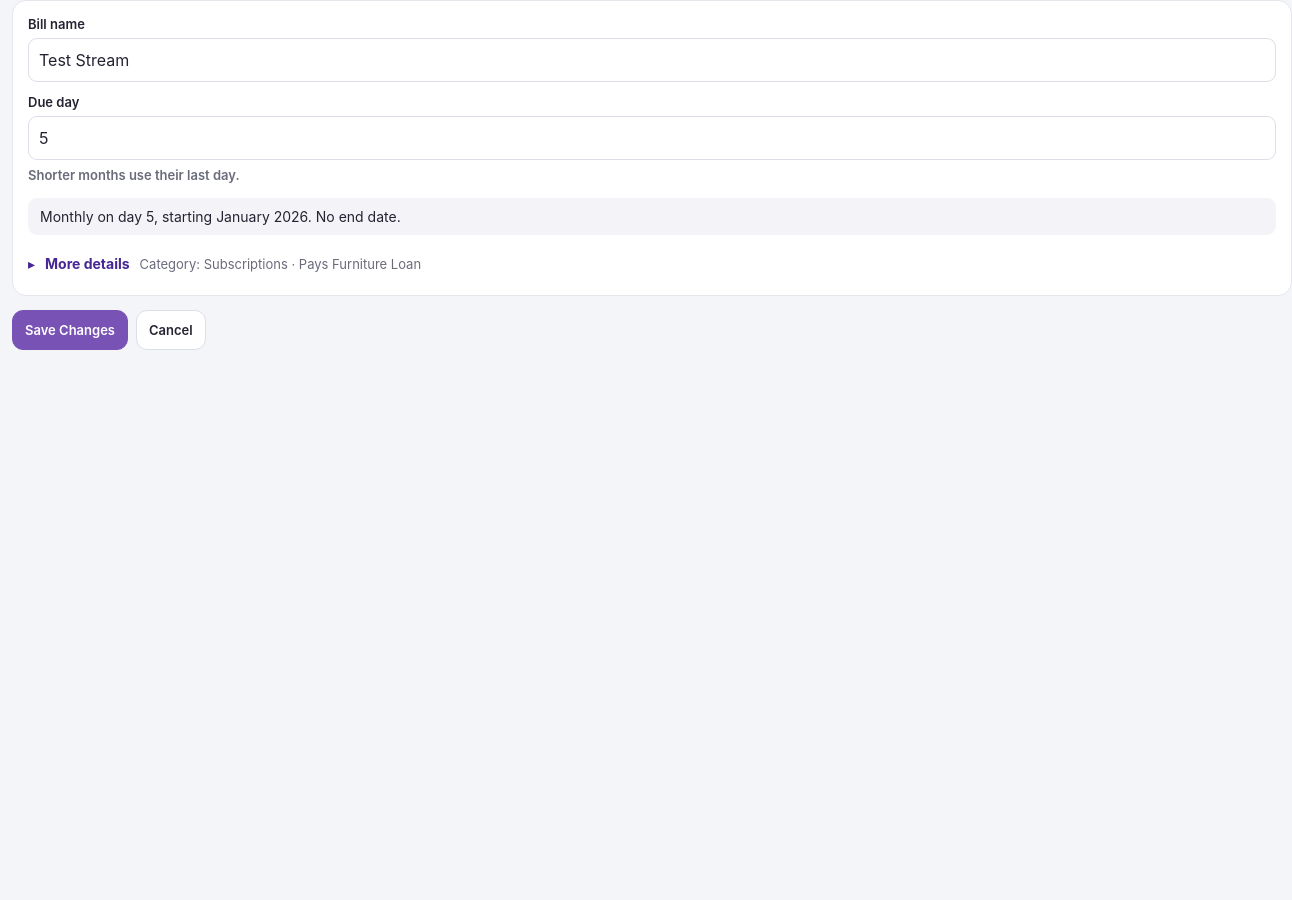
explains an incompatible Start month edit, focuses the error and never saves
Click the button "More details". click: coordinates (79, 263)
box: left=28, top=246, right=130, bottom=280
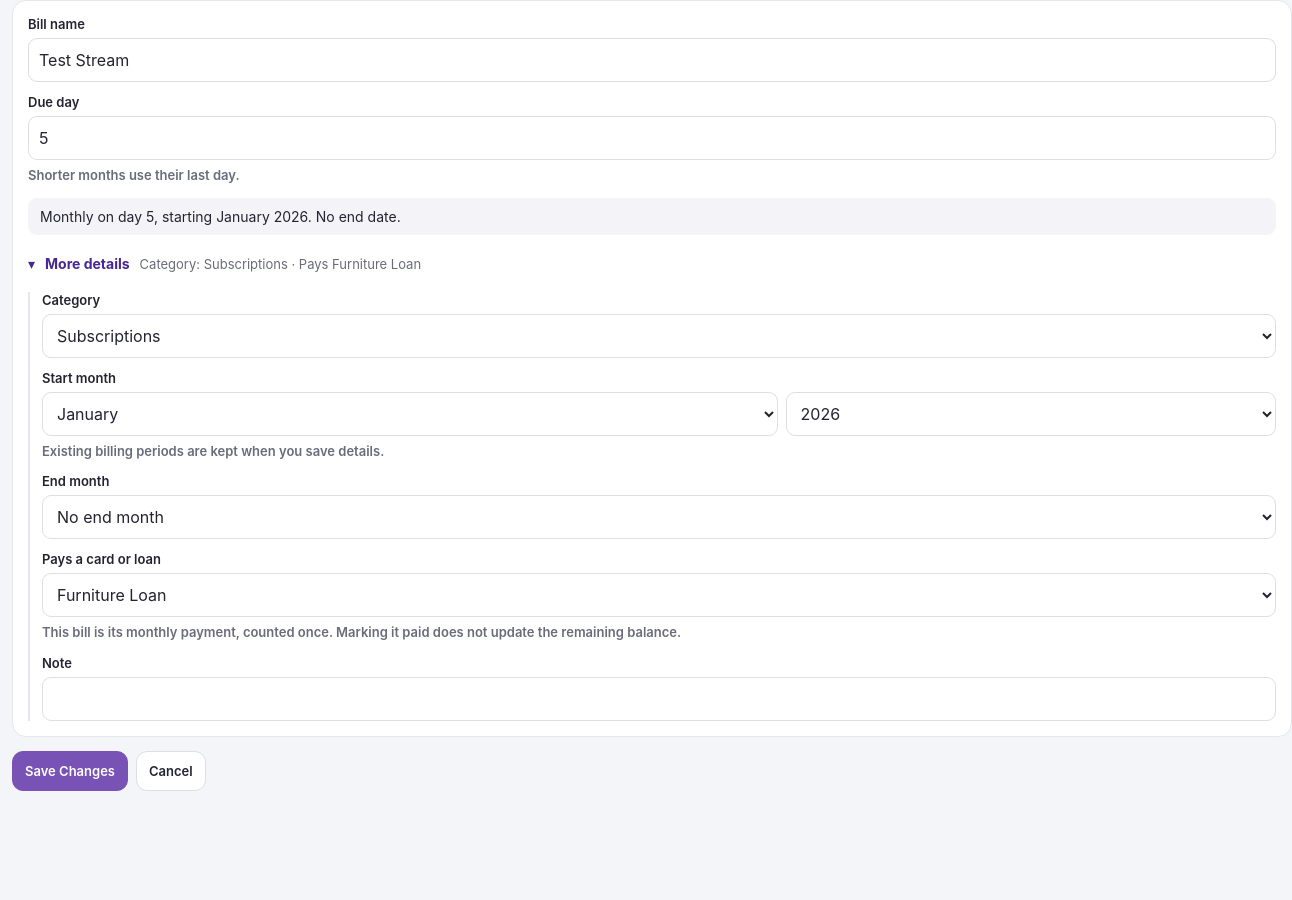
Select "May" in the dropdown named "Start month: month". click: coordinates (410, 414)
box: left=42, top=392, right=778, bottom=436
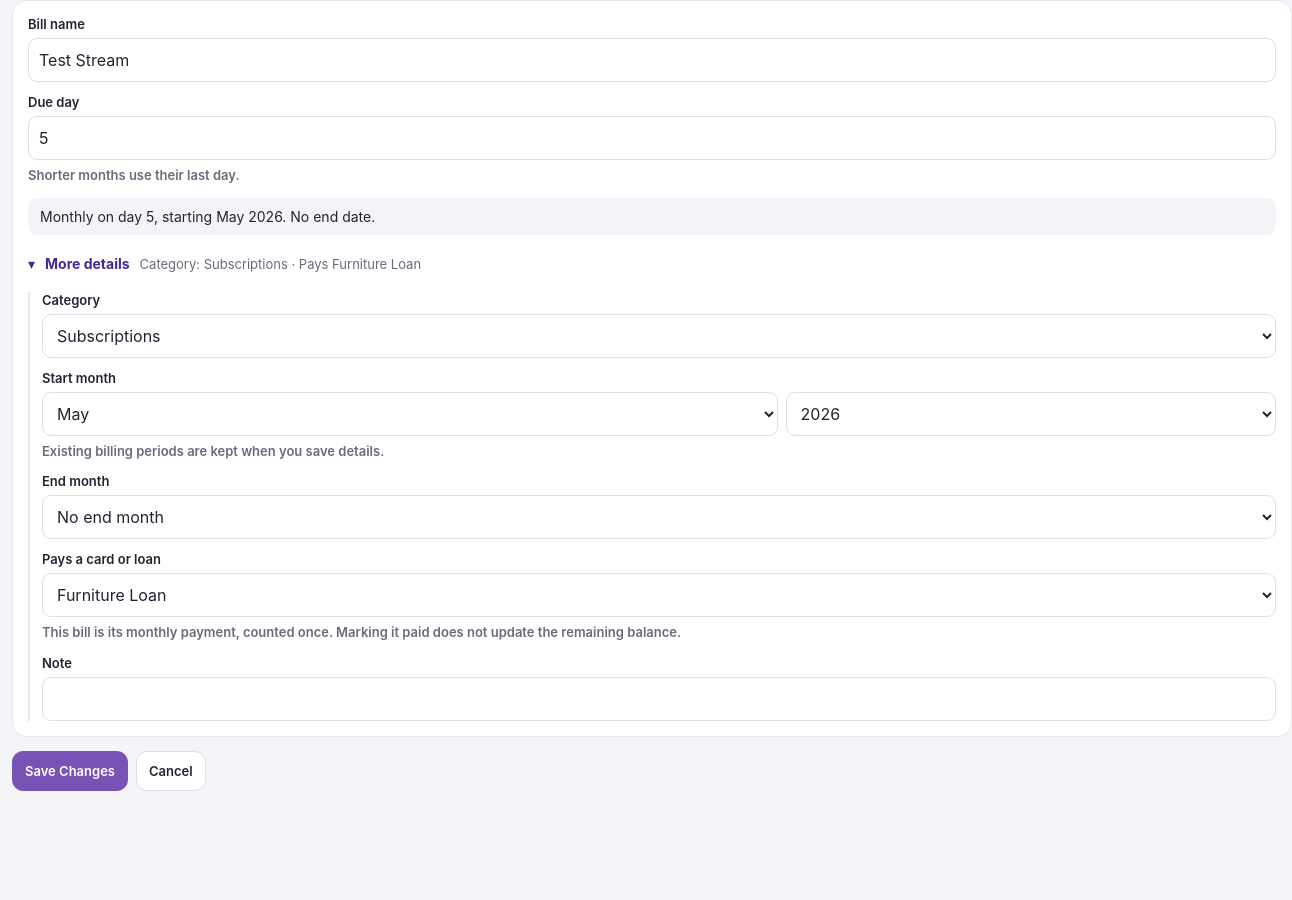
Click the button "Save Changes". click: coordinates (70, 770)
box: left=12, top=750, right=128, bottom=790
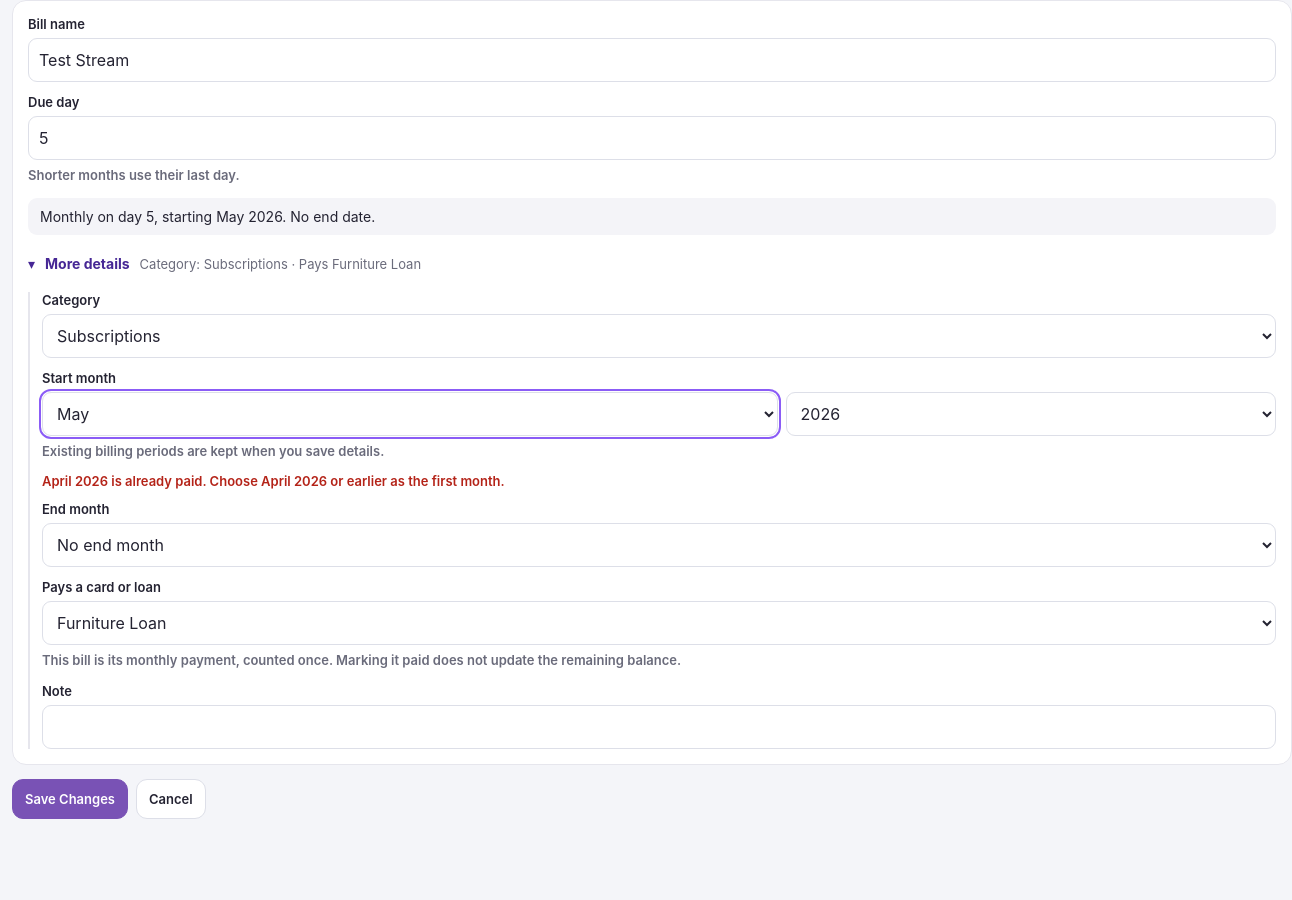
Now the text "April 2026 is already paid" is shown, box left=42, top=473, right=505, bottom=489
